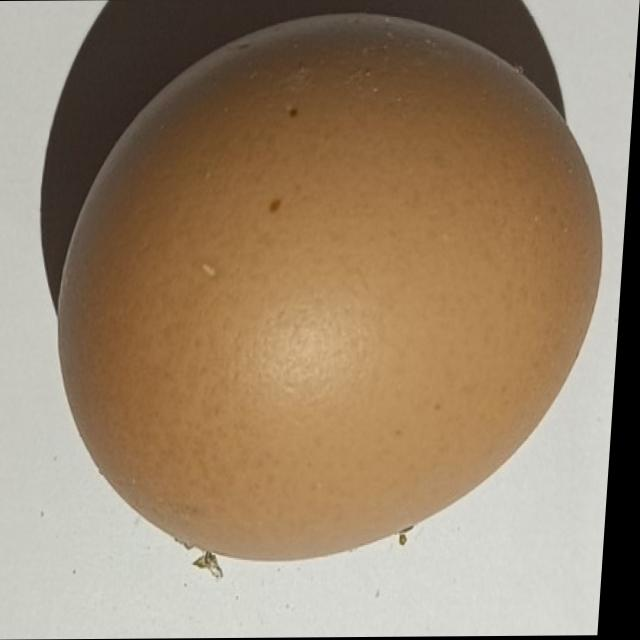fresh: (39, 0, 636, 582)
